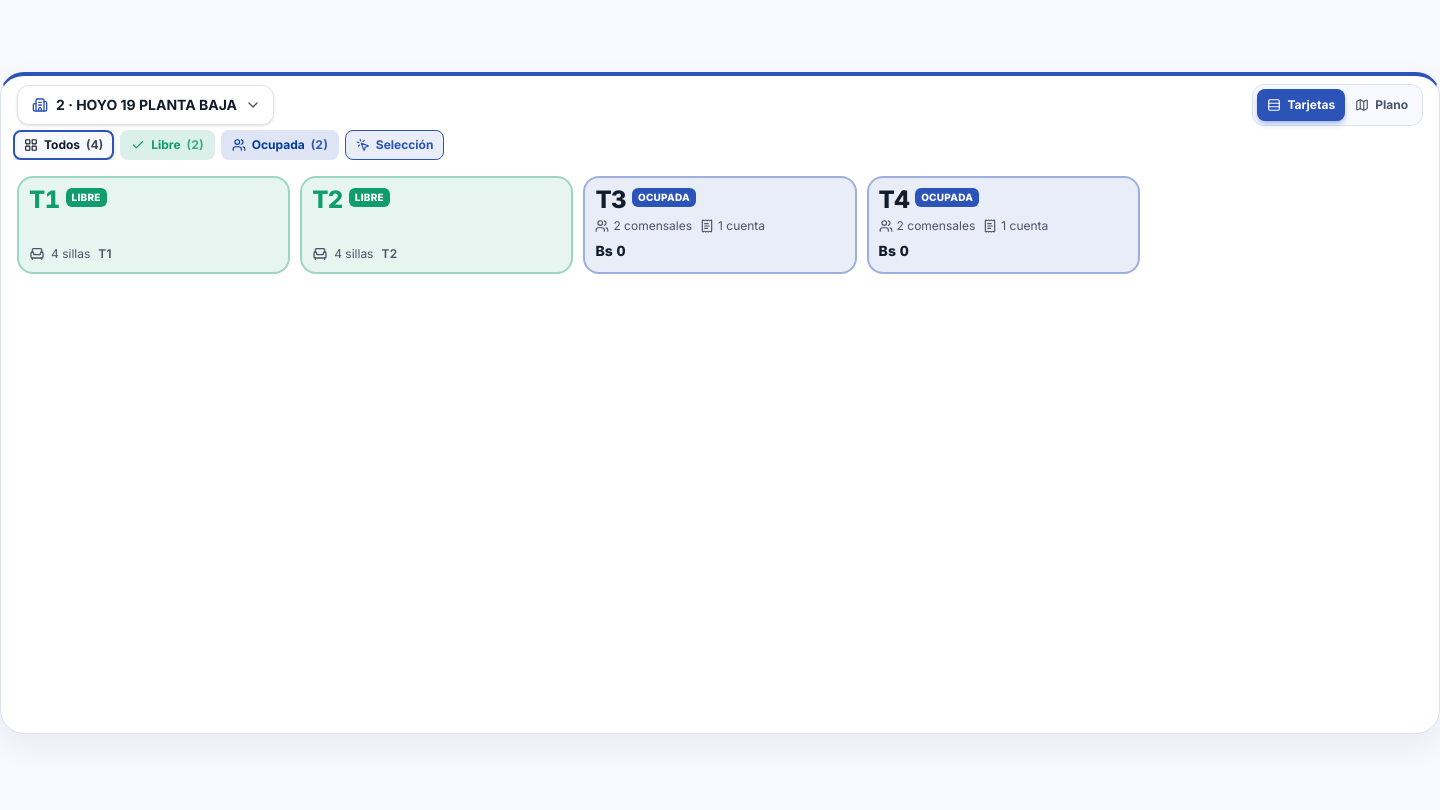
Test: PlanoMesas: filtros de estado › siempre muestra Todos y filtra por libres y ocupadas al hacer clic
The width and height of the screenshot is (1440, 810).
Check: the button "Todos (4)" is shown, box [13,130,114,160]
Click the button "Libre (2)": (167, 145) [120,130,215,160]
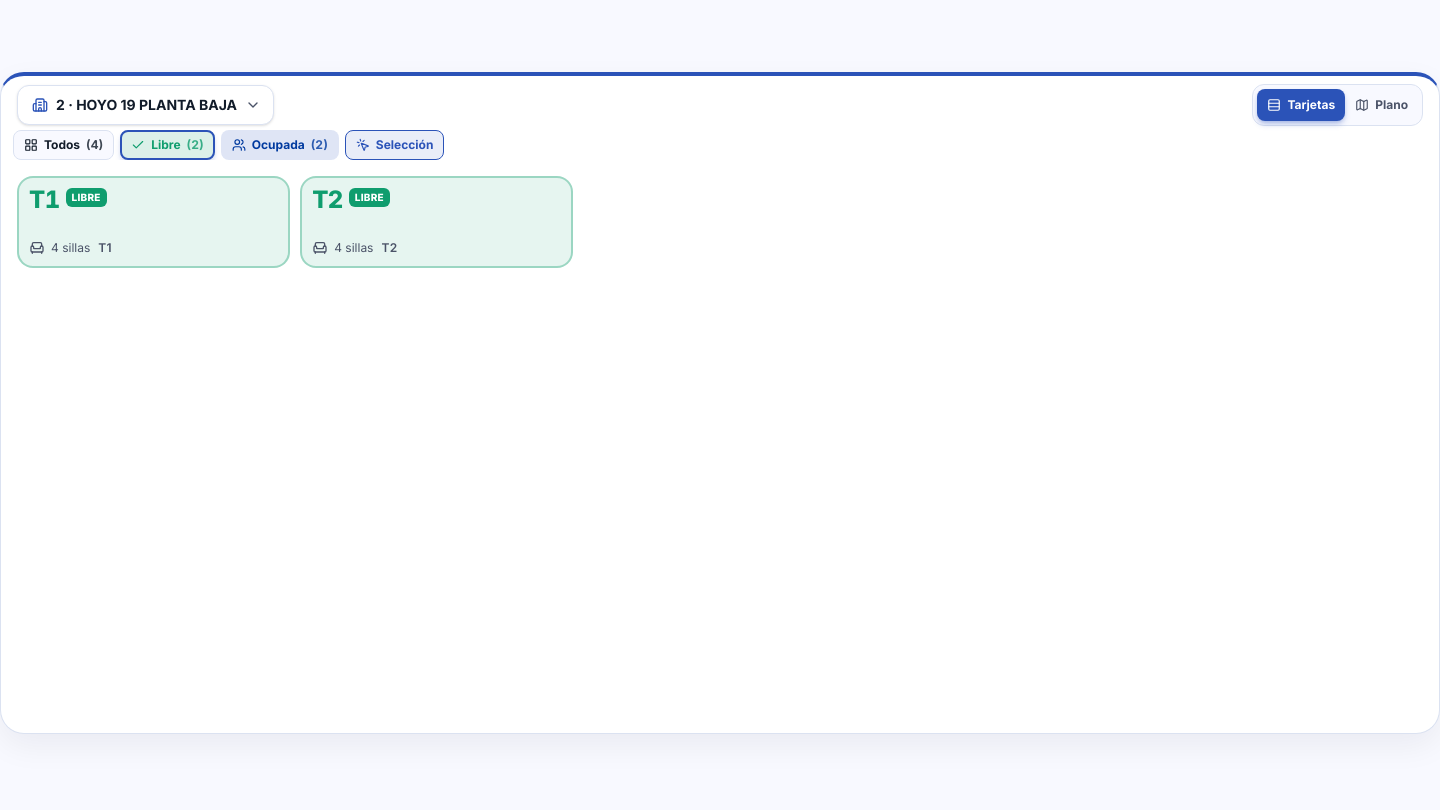
Check: the number of buttons "T1 Libre 4 sillas T1" is 2, box [17,176,290,268]; [300,176,573,268]
Click the button "Ocupada (2)": (280, 145) [221,130,339,160]
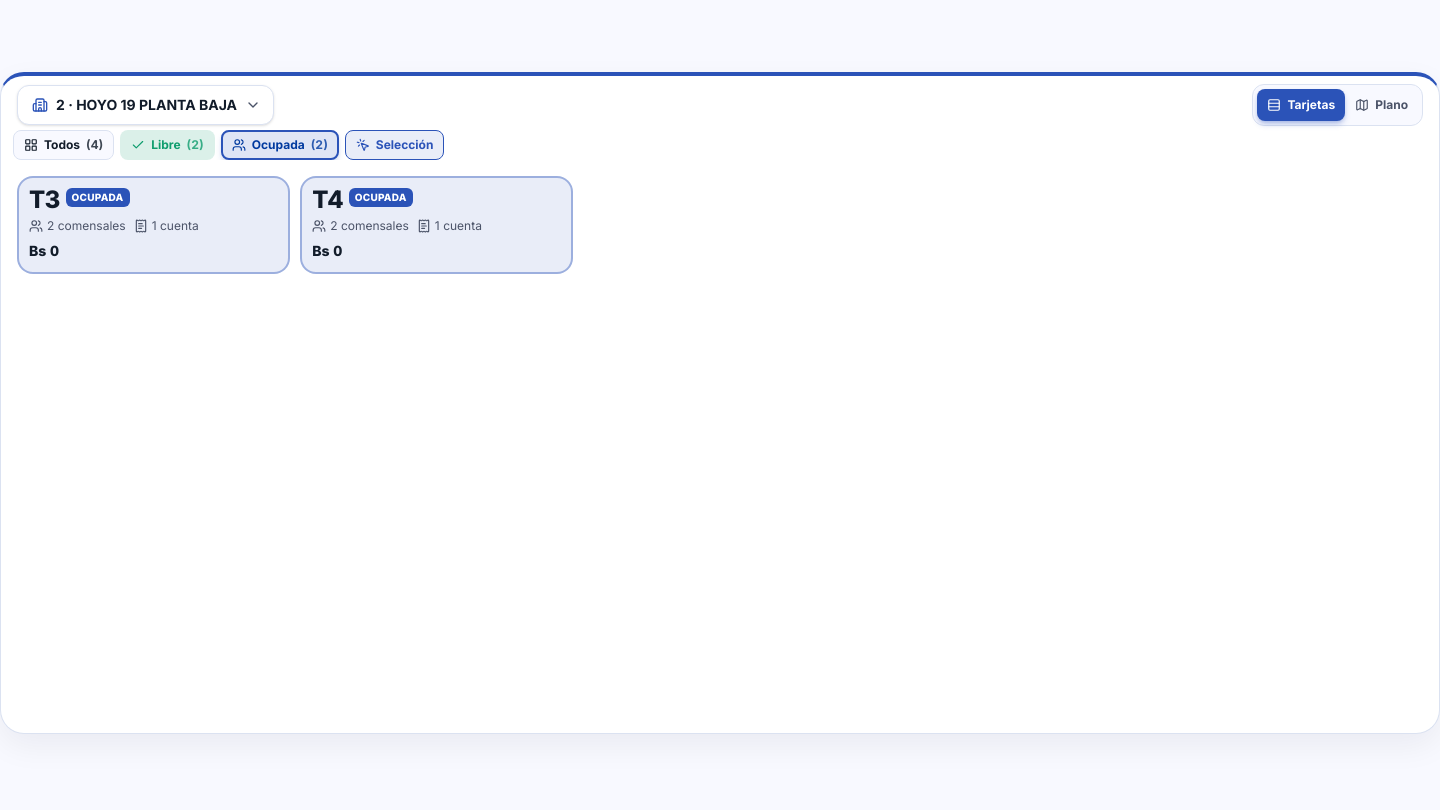
Check: the number of buttons "T3 Ocupada 2 comensales 1 cuenta Bs 0" is 2, box [17,176,290,274]; [300,176,573,274]
Click the button "Todos (4)": (64, 145) [13,130,114,160]
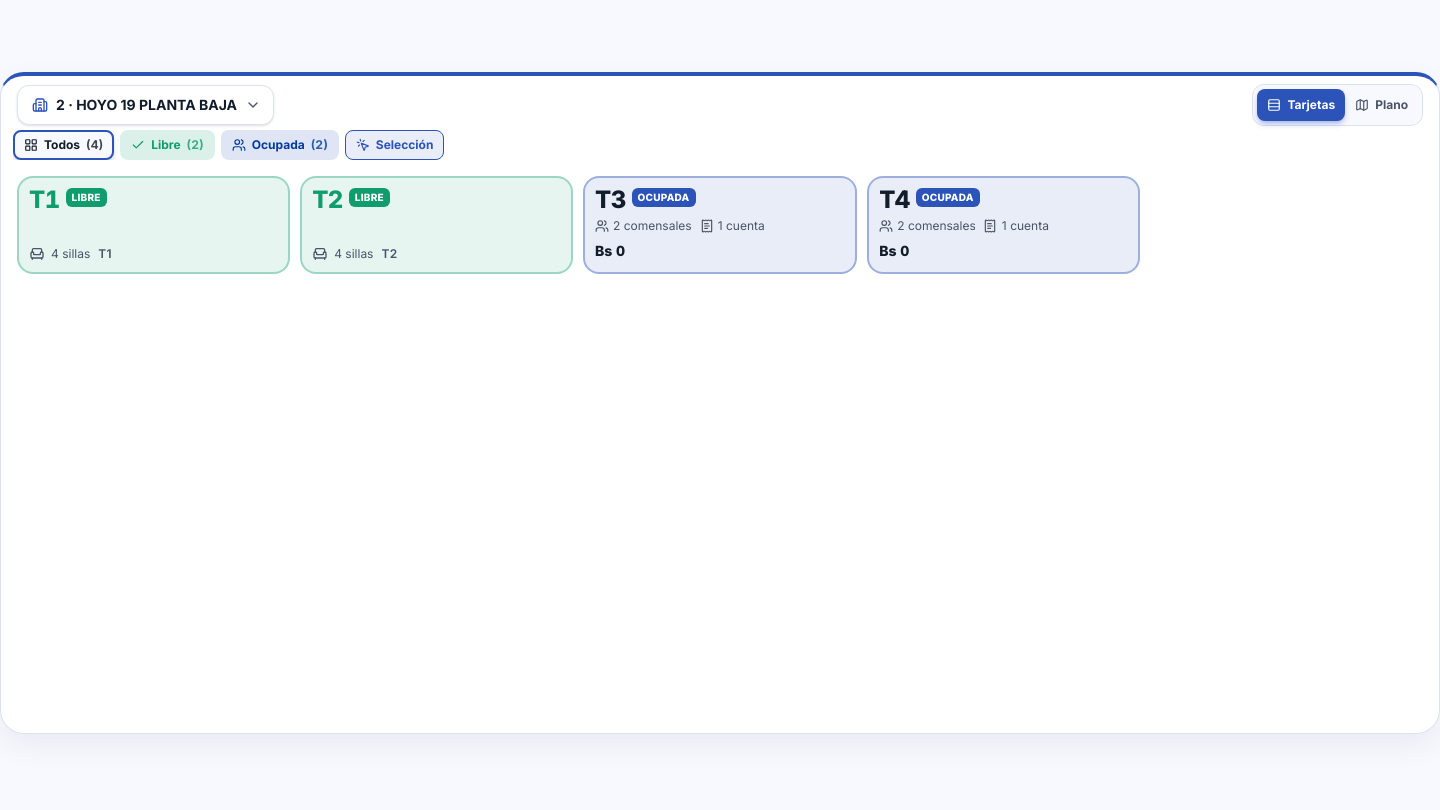
Check: the number of buttons "T1 Libre 4 sillas T1" is 4, box [17,176,290,274]; [300,176,573,274]; [583,176,857,274]; [867,176,1140,274]
